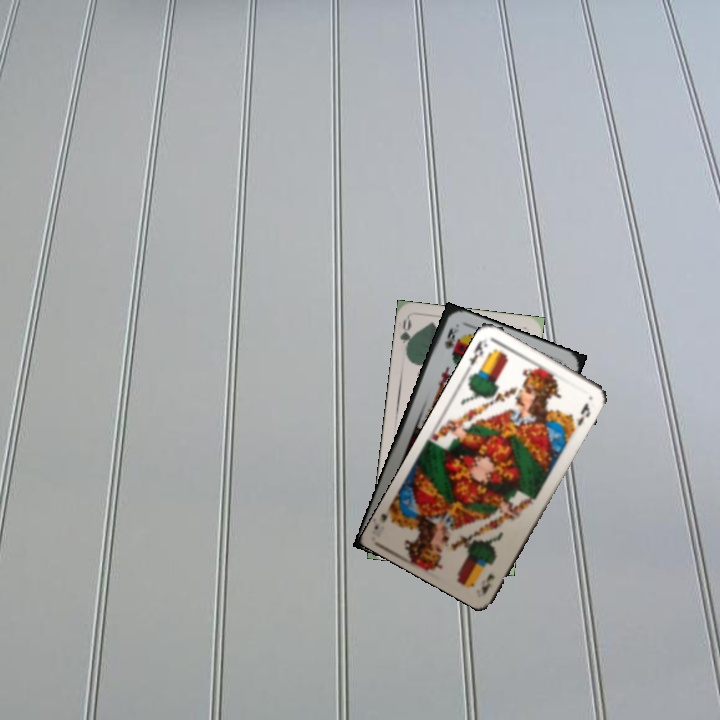EK: (465, 334, 490, 368), (477, 570, 498, 595)
GO: (396, 315, 416, 357)
SK: (440, 324, 462, 351)
